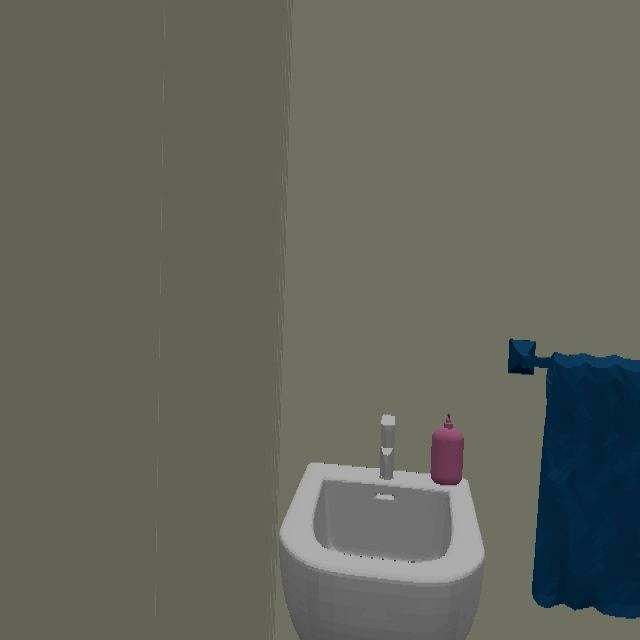washbasin: (279, 417, 487, 640)
